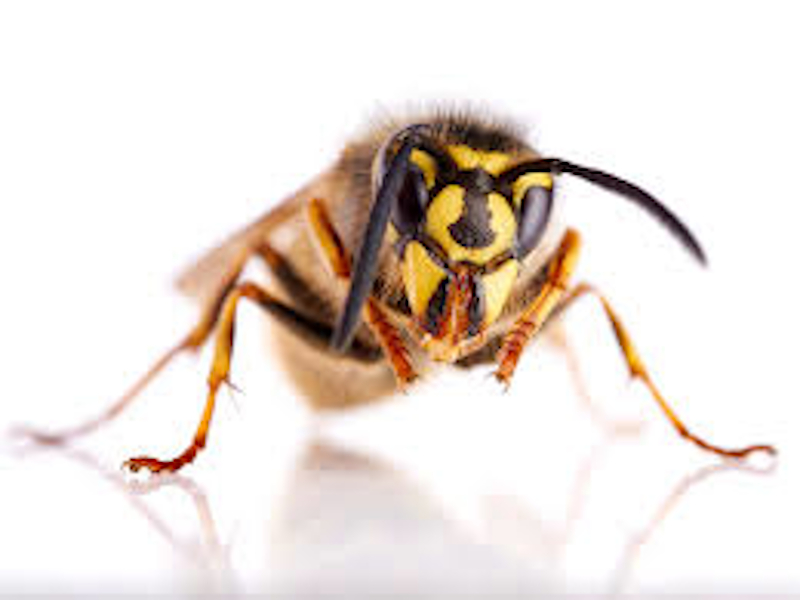chax: (17, 93, 779, 495)
